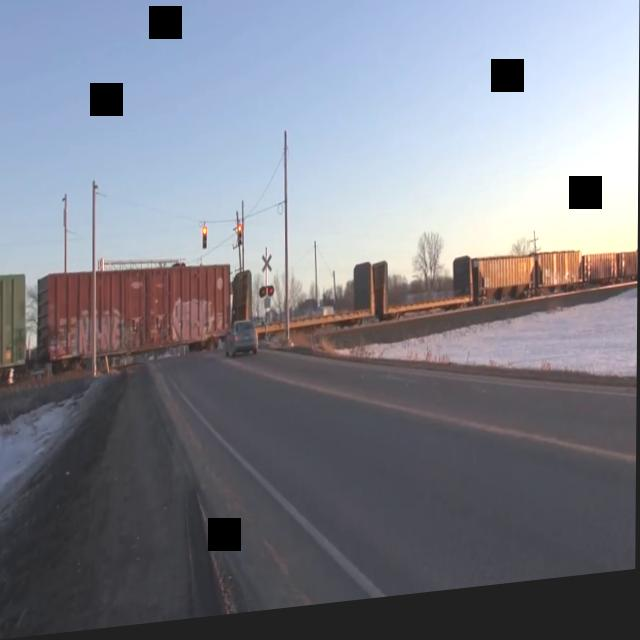boxcar: (34, 253, 233, 381)
flatcar_bulkhead: (232, 260, 378, 344), (372, 259, 475, 331)
hopper: (472, 260, 536, 319), (535, 260, 584, 307)
